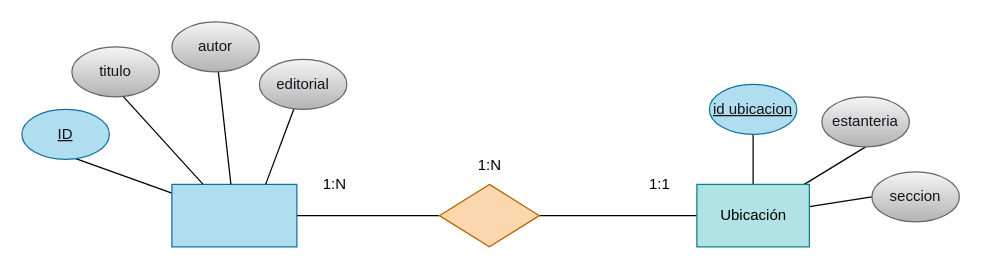
Image size: 981x269. Some labels were removed from this diagram. Here are the shapes that lost their labels. From the top down, the centre of each, then its label:
At pixel 234 215: "Libro".
At pixel 488 215: "tiene".
